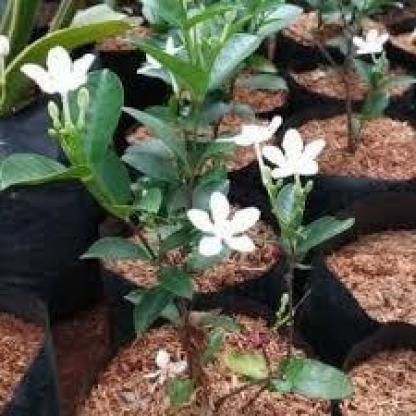Melati: (210, 108, 332, 190), (171, 184, 262, 256), (16, 38, 101, 93)
